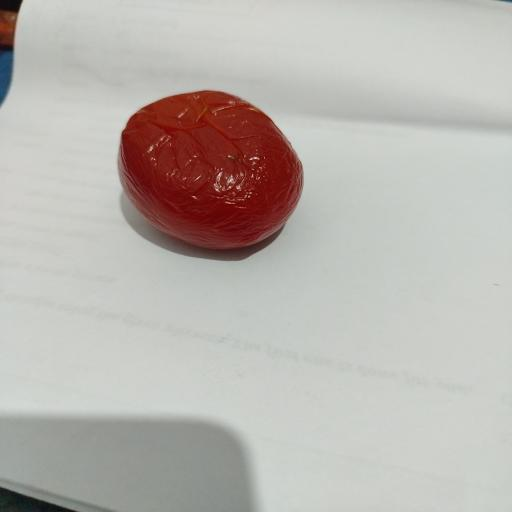spoiled: (118, 91, 303, 248)
